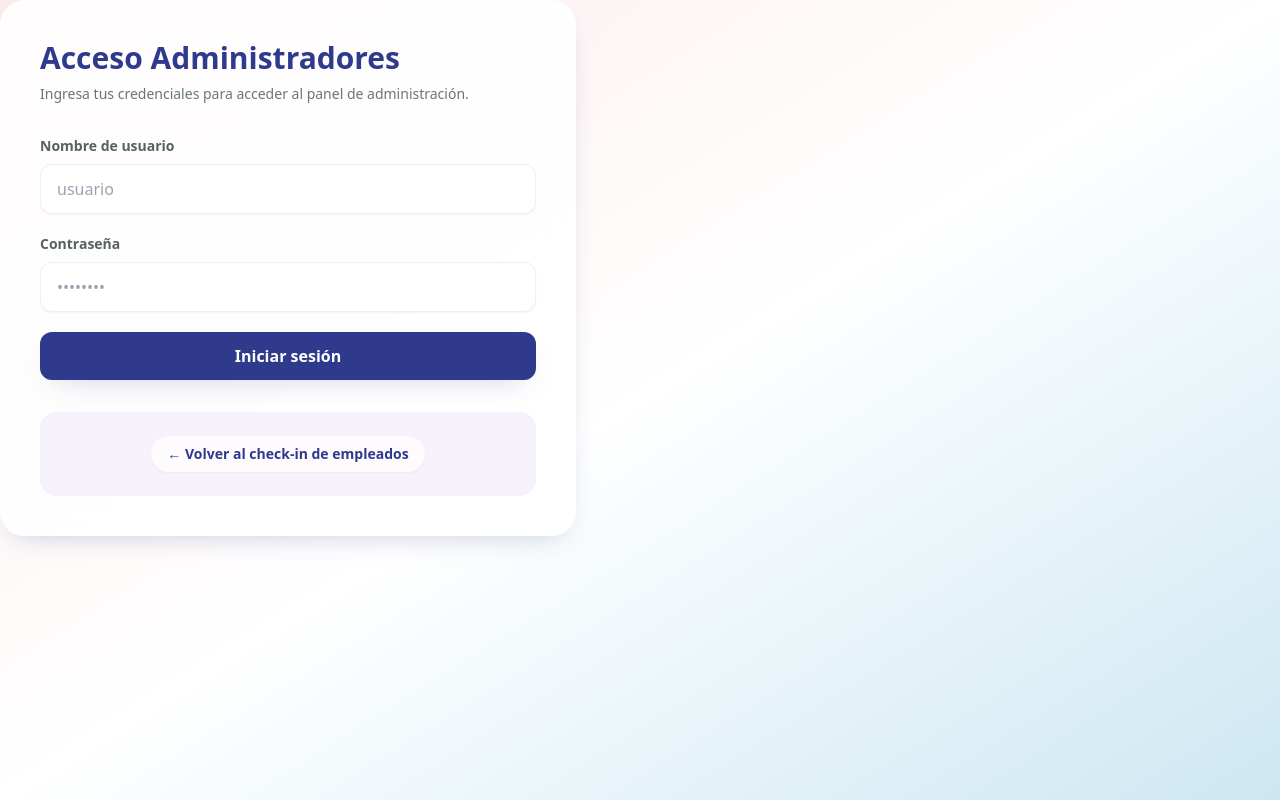
it: AdminLoginPage › should show error message on login failure
Type "wronguser" into the field with placeholder "usuario" at [288, 189], box [40, 164, 536, 214]
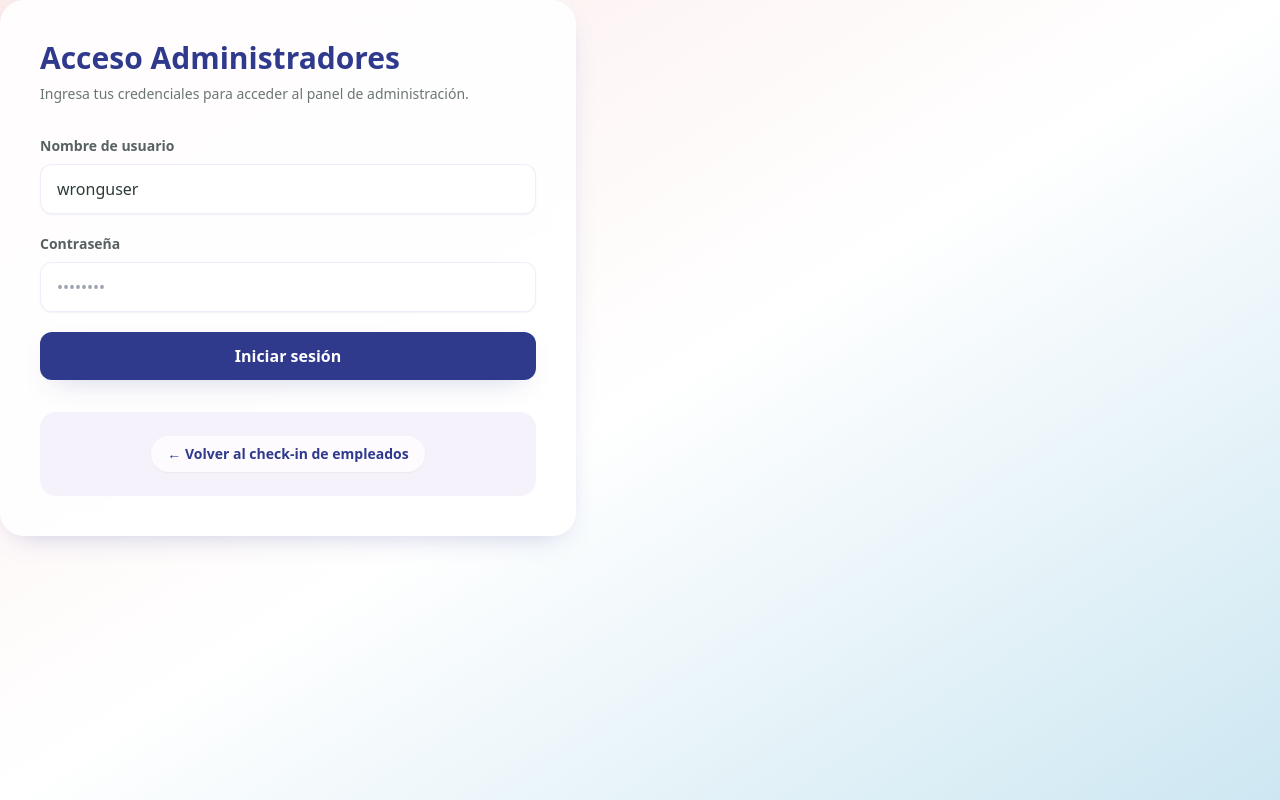
Type "wrongpass" into the password field with placeholder "••••••••" at [288, 287], box [40, 262, 536, 312]
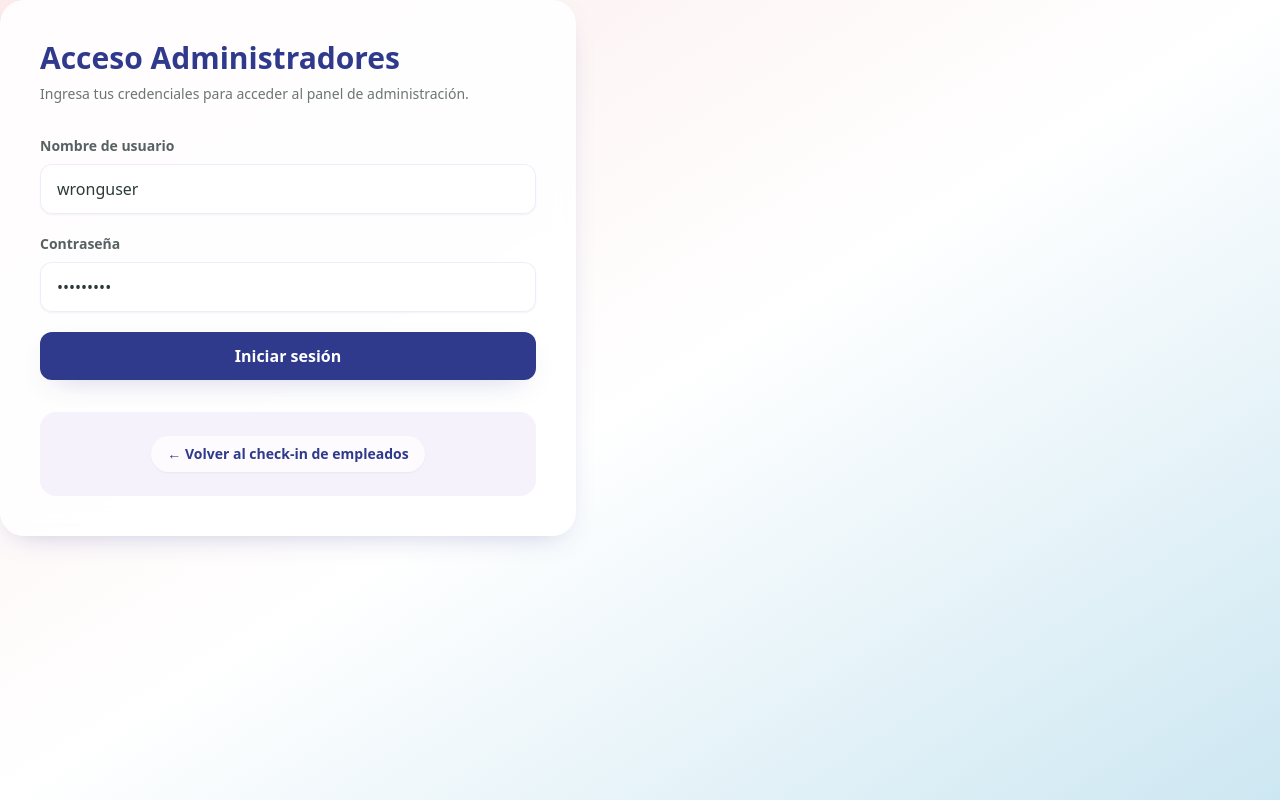
Click the button "Iniciar sesión" at [288, 356], box [40, 332, 536, 380]
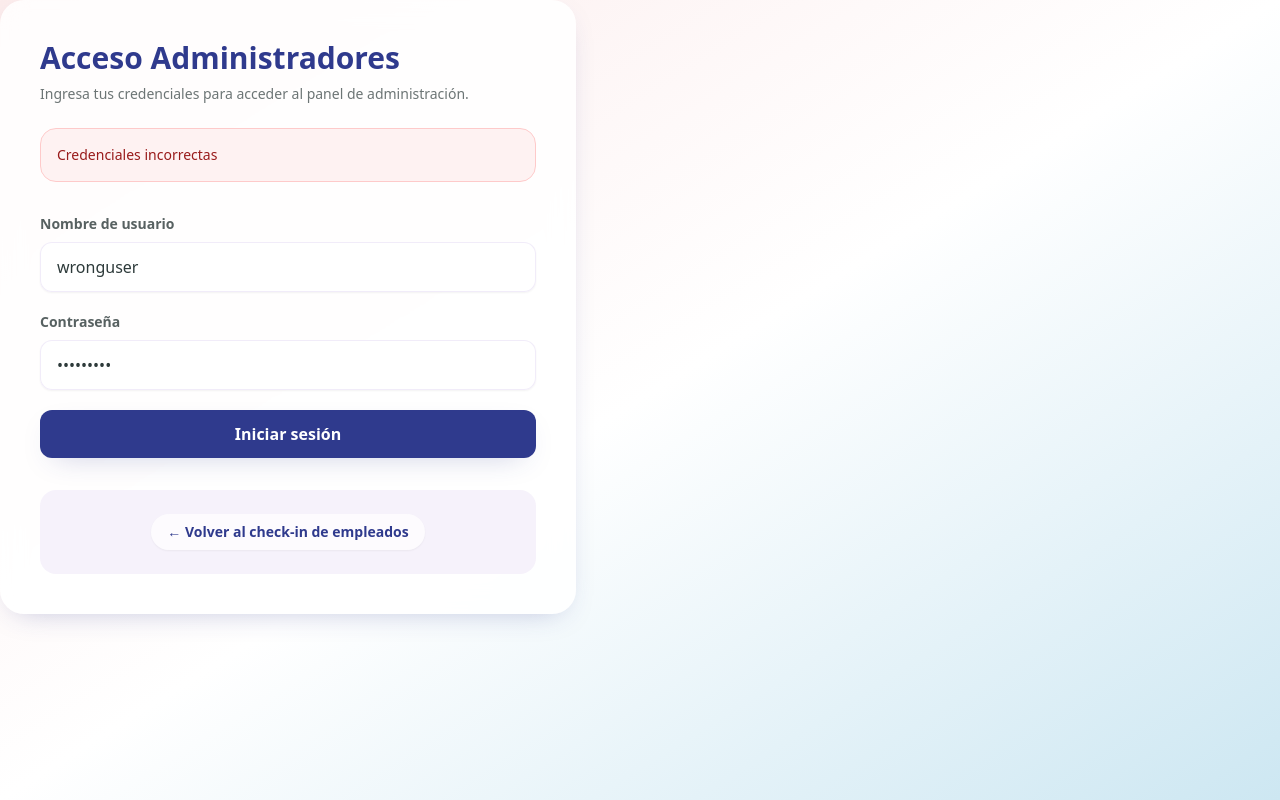
Check: the text "Credenciales incorrectas" is shown, box [40, 128, 536, 182]
